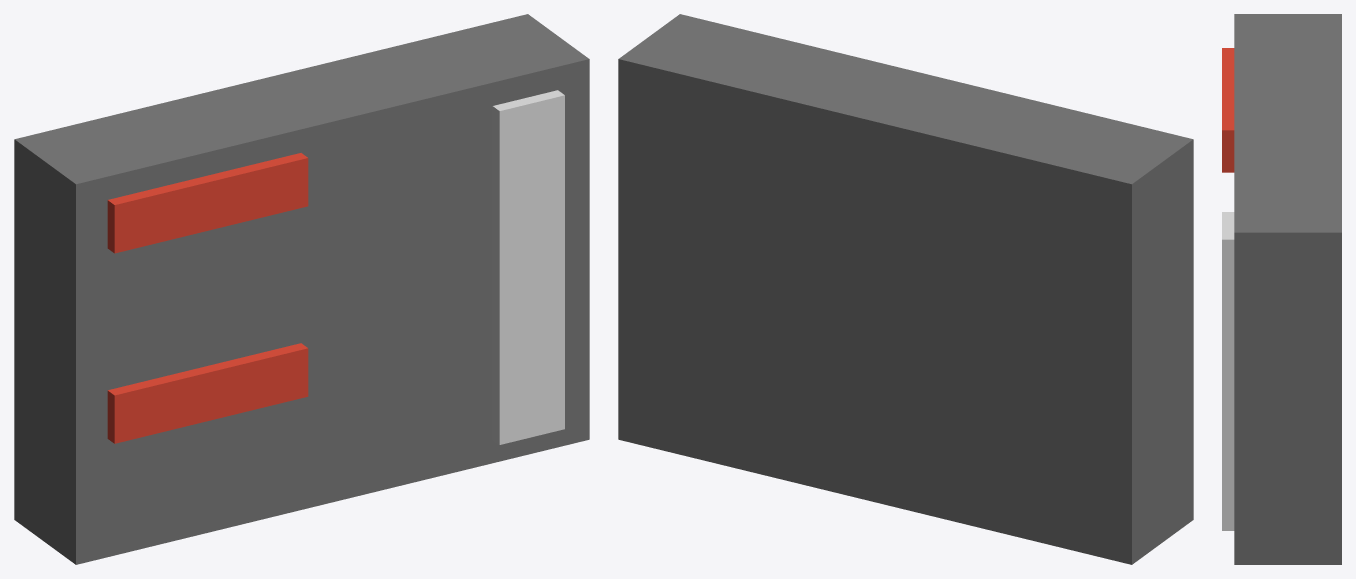
Rendered from Wall Button.fbx.
3 views of the same model, side by side, from view 1: azimuth 30°, elevation 25°; view 2: azimuth 150°, elevation 25°; view 3: azimuth 270°, elevation 25° (orthographic). The views are drawn at different scales.
Parts seen in each view (by area): view 1: Cube; view 2: Cube; view 3: Cube.
Part boxes in pixels (left/top/right/bottom): Cube: left=14, top=14, right=589, bottom=564; Cube: left=618, top=14, right=1193, bottom=564; Cube: left=1222, top=14, right=1341, bottom=564.
Size of the model in its own units: 70.58 by 50 by 16.33.
